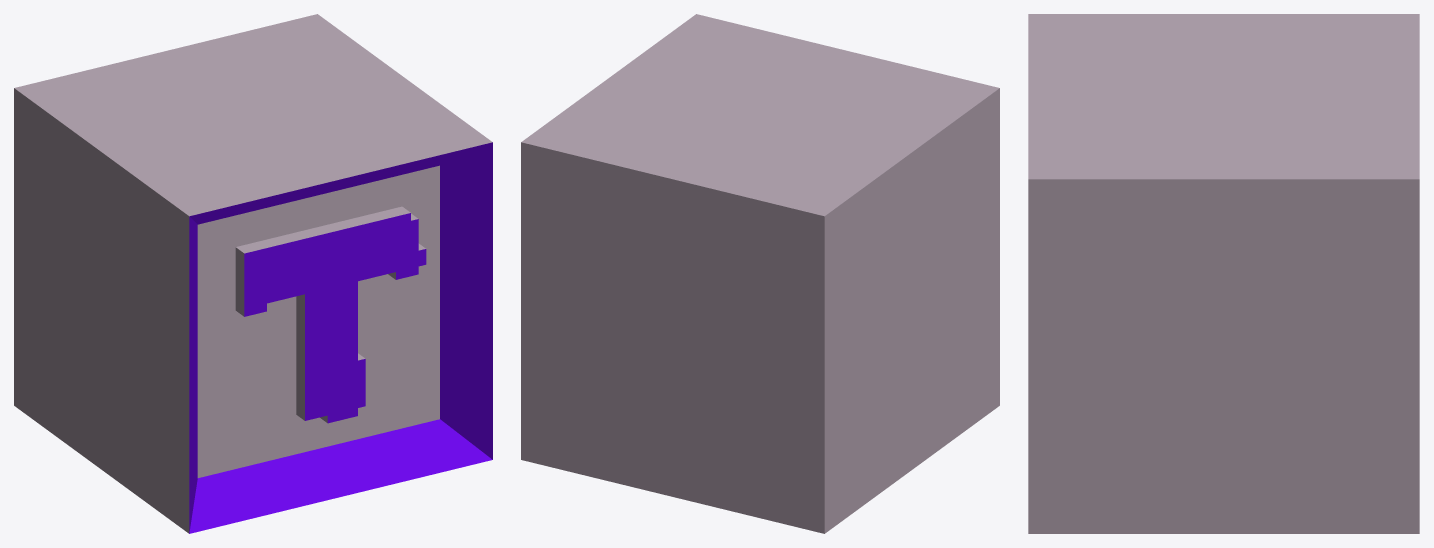
Rendered from BlockT.fbx.
3 views of the same model, side by side, from view 1: azimuth 30°, elevation 25°; view 2: azimuth 150°, elevation 25°; view 3: azimuth 270°, elevation 25° (orthographic). The views are drawn at different scales.
Visible parts, largest first — view 1: Cube; view 2: Cube; view 3: Cube.
Boxes of the visible parts, x1,y1,x2,y2 form: Cube: (14,14,492,533); Cube: (521,14,999,533); Cube: (1028,14,1419,533).
Bounding box in the file's own units: 2000 × 2000 × 2000.
